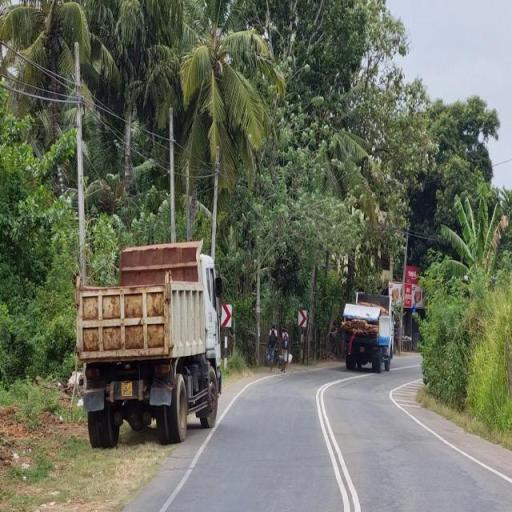double_white_line: (316, 376, 361, 512)
